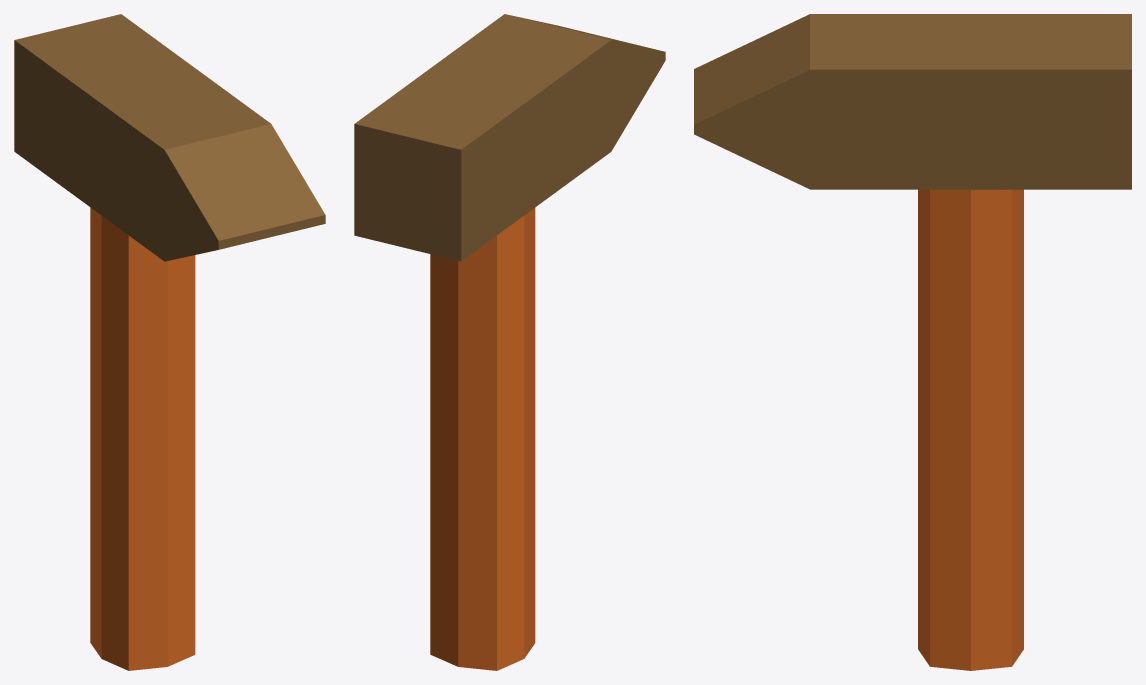
Rendered from bronze_hammer.glb.
3 renders of one model, left to right at view 1: azimuth 30°, elevation 25°; view 2: azimuth 150°, elevation 25°; view 3: azimuth 270°, elevation 25°, orthographic. The views are drawn at different scales.
Parts seen in each view (by area): view 1: Cube; view 2: Cube; view 3: Cube.
Part boxes in pixels (<box>): Cube: <box>14,14,325,670</box>; Cube: <box>354,14,665,670</box>; Cube: <box>694,14,1131,670</box>.
Bounding box in the file's own units: 0.7471 × 3.79 × 2.48.
